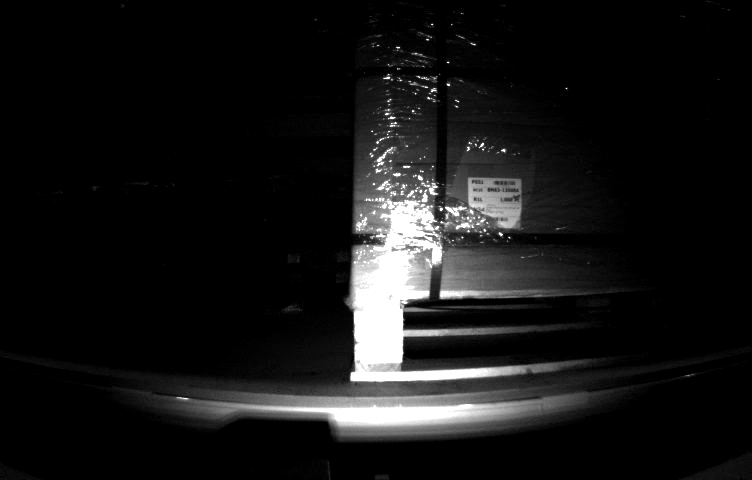True Barcode: (465, 173, 526, 233)
